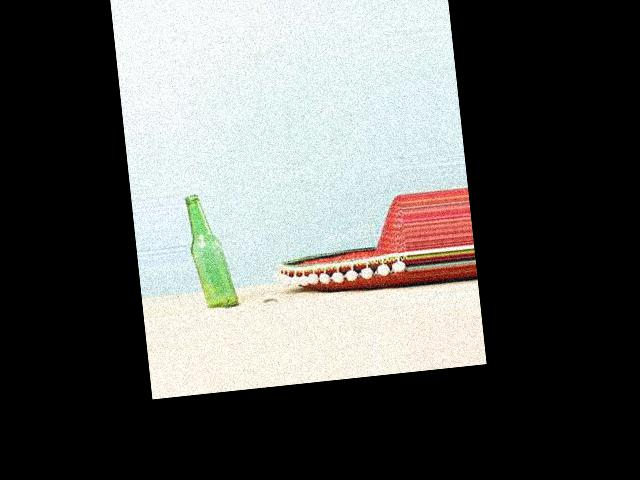beer: (186, 191, 240, 313)
